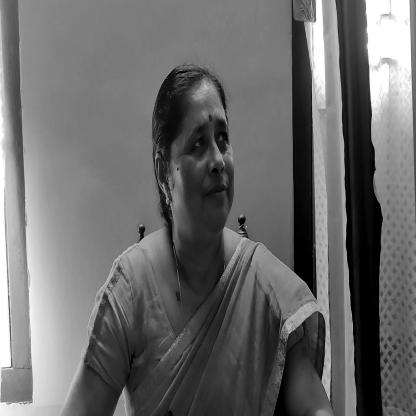Distracted: (158, 79, 236, 251)
